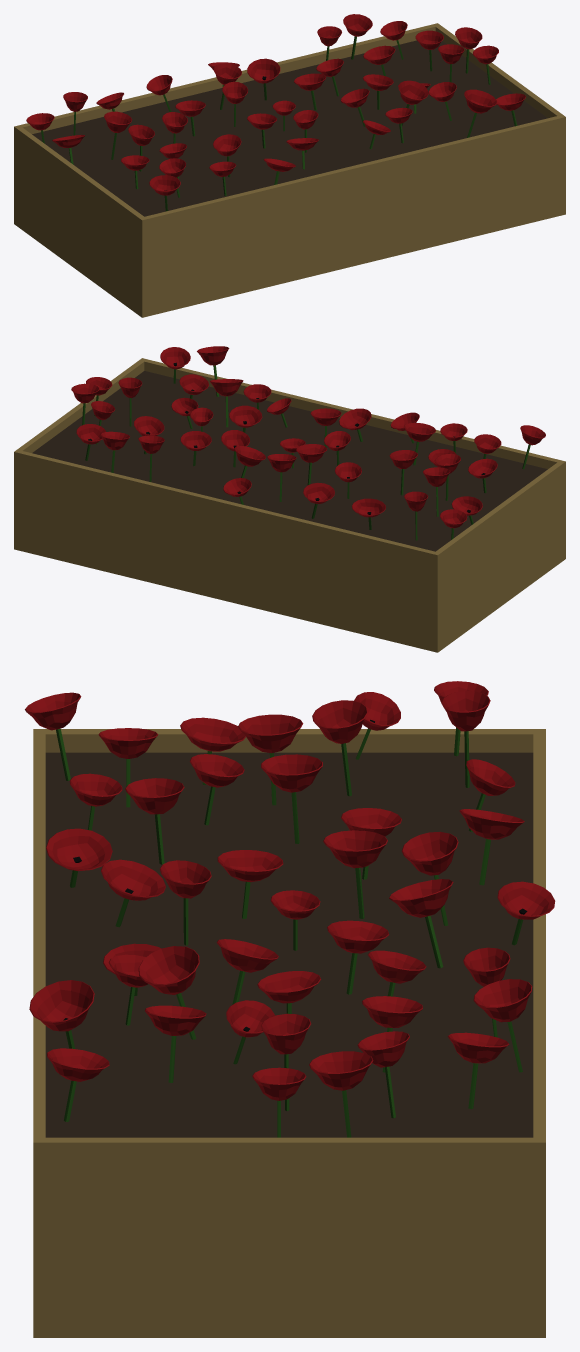
Rendered from Poppies.fbx.
The picture shows the model from 3 angles, top to bottom: view 1: azimuth 30°, elevation 25°; view 2: azimuth 150°, elevation 25°; view 3: azimuth 270°, elevation 25°; orthographic projection. The views are drawn at different scales.
Visible parts, largest first — view 1: FlowerBed, Poppies; view 2: FlowerBed, Poppies; view 3: FlowerBed, Poppies.
Part boxes in pixels (left/top/right/bottom): FlowerBed: left=14, top=23, right=565, bottom=317; Poppies: left=26, top=14, right=525, bottom=211; FlowerBed: left=14, top=358, right=565, bottom=652; Poppies: left=71, top=346, right=545, bottom=540; FlowerBed: left=33, top=729, right=545, bottom=1337; Poppies: left=25, top=681, right=555, bottom=1137.
Size of the model in its own units: 427 by 127 by 228.
